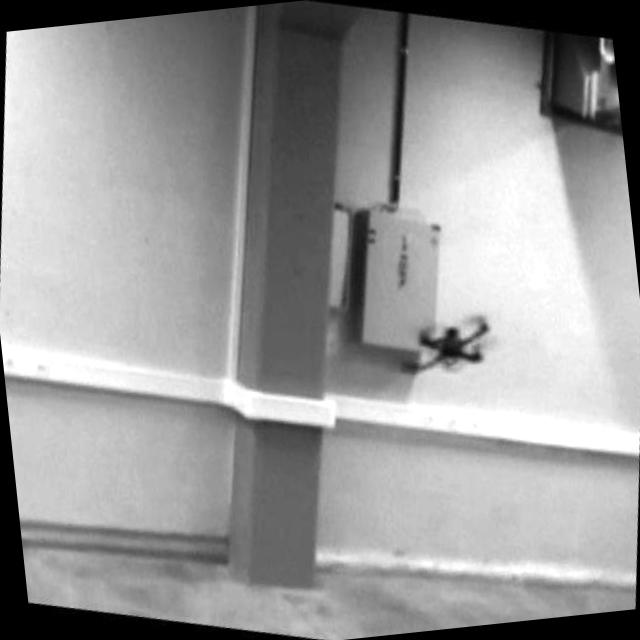drone: (396, 293, 494, 390)
